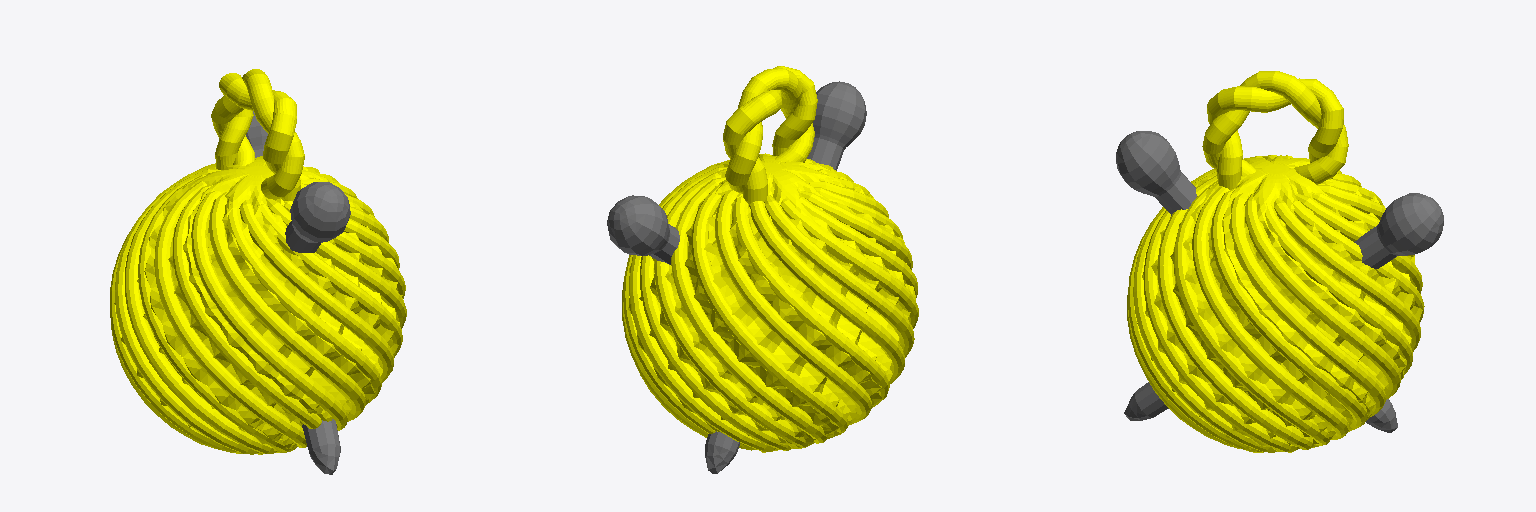
The picture shows the model from 3 angles: view 1: azimuth 30°, elevation 25°; view 2: azimuth 150°, elevation 25°; view 3: azimuth 270°, elevation 25°; orthographic projection.
Parts seen in each view (by area): view 1: Yarn.004, Yarn.020, Yarn.018, Yarn.021, Yarn.017, Yarn.019, Yarn.003, Yarn.015, Yarn.002, Yarn.023, Yarn.001, Yarn.016 (+7 smaller); view 2: Yarn.004, Yarn.027, Yarn.025, Yarn.026, Yarn.001, Yarn.003, Yarn.005, Yarn.023, Yarn.006, Yarn.002, Yarn.024, Yarn (+9 smaller); view 3: Yarn.004, Yarn, Yarn.011, Yarn.013, Yarn.001, Yarn.003, Yarn.002, Yarn.009, Yarn.010, Yarn.008, Yarn.012, Yarn.014 (+9 smaller).
Boxes of the visible parts, x1,y1,x2,y2 form: Yarn.004: [114, 156, 402, 454]; Yarn.020: [154, 181, 306, 447]; Yarn.018: [191, 191, 347, 430]; Yarn.021: [125, 169, 276, 453]; Yarn.017: [209, 192, 365, 421]; Yarn.019: [173, 185, 321, 428]; Yarn.003: [215, 73, 300, 200]; Yarn.015: [239, 200, 393, 382]; Yarn.002: [211, 69, 304, 199]; Yarn.023: [115, 165, 258, 454]; Yarn.001: [285, 182, 350, 252]; Yarn.016: [225, 201, 381, 402]; Yarn.004: [628, 154, 915, 452]; Yarn.027: [671, 177, 827, 443]; Yarn.025: [715, 190, 871, 425]; Yarn.026: [691, 184, 848, 435]; Yarn.001: [705, 81, 866, 473]; Yarn.003: [723, 66, 817, 204]; Yarn.005: [654, 173, 810, 447]; Yarn.023: [749, 201, 904, 384]; Yarn.006: [640, 167, 790, 450]; Yarn.002: [725, 68, 814, 193]; Yarn.024: [732, 196, 889, 407]; Yarn: [607, 195, 679, 264]; Yarn.004: [1137, 155, 1422, 452]; Yarn: [1124, 193, 1443, 420]; Yarn.011: [1192, 186, 1348, 439]; Yarn.013: [1157, 175, 1313, 449]; Yarn.001: [1116, 131, 1397, 432]; Yarn.003: [1207, 78, 1343, 189]; Yarn.002: [1202, 71, 1348, 184]; Yarn.009: [1229, 193, 1385, 416]; Yarn.010: [1211, 188, 1367, 431]; Yarn.008: [1244, 194, 1400, 399]; Yarn.012: [1174, 180, 1330, 445]; Yarn.014: [1143, 171, 1297, 451].
Bounding box in the file's own units: 2.93 × 4 × 3.23.
Materials: 2 (2 with a texture image).